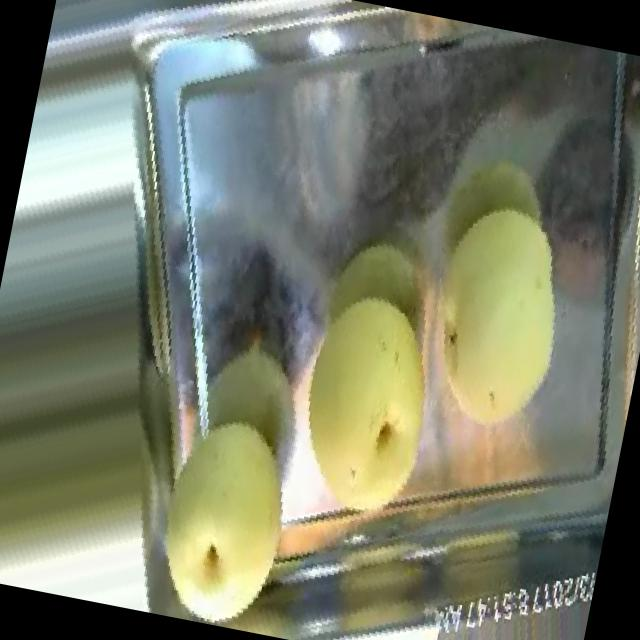Fruit: (226, 251, 532, 571), (364, 167, 612, 470), (102, 375, 339, 640)
